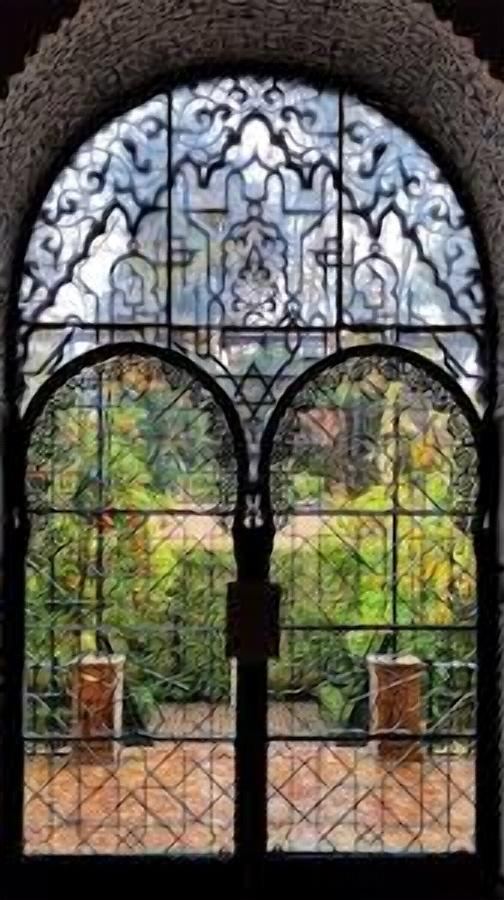Gate: (0, 64, 504, 900)
